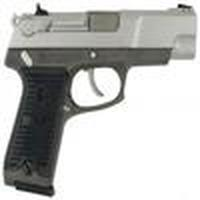gun: (1, 9, 200, 189)
